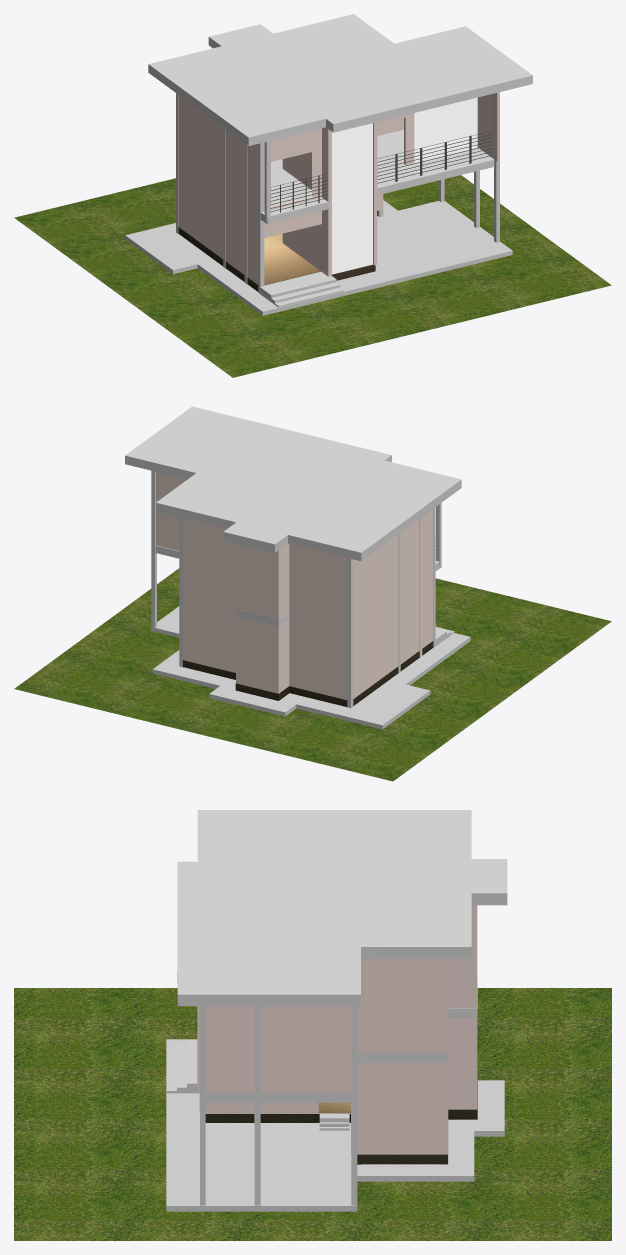
Rendered from mthouse.glb.
3 views of the same model, one above another, from view 1: azimuth 30°, elevation 25°; view 2: azimuth 150°, elevation 25°; view 3: azimuth 270°, elevation 25° (orthographic). The views are drawn at different scales.
Parts seen in each view (by area): view 1: Plane, Roof, Wall.001, Wall, Ground, Floor2, Floor, stair, Cube, column.002, column.012, Cube.001 (+2 smaller); view 2: Plane, Roof, Wall, Wall.001, Ground, Floor, column.003, column.010, Floor2, column.006, column.001; view 3: Plane, Roof, Wall.001, Ground, Wall, Floor2, Floor, stair, column.010, column.011, column.012.
Part boxes in pixels (x1=…): Plane: x1=14, y1=175, x2=611, y2=377; Roof: x1=148, y1=14, x2=532, y2=145; Wall.001: x1=178, y1=92, x2=499, y2=210; Wall: x1=178, y1=133, x2=383, y2=284; Ground: x1=125, y1=200, x2=512, y2=315; Floor2: x1=260, y1=129, x2=494, y2=224; Floor: x1=178, y1=210, x2=377, y2=291; stair: x1=259, y1=271, x2=343, y2=307; Cube: x1=377, y1=130, x2=492, y2=183; column.002: x1=258, y1=142, x2=264, y2=293; column.012: x1=494, y1=92, x2=499, y2=242; Cube.001: x1=270, y1=173, x2=326, y2=212; Plane: x1=14, y1=568, x2=611, y2=781; Roof: x1=125, y1=406, x2=461, y2=561; Wall: x1=183, y1=566, x2=433, y2=699; Wall.001: x1=156, y1=472, x2=433, y2=625; Ground: x1=150, y1=606, x2=470, y2=729; Floor: x1=183, y1=641, x2=433, y2=706; column.003: x1=347, y1=558, x2=353, y2=708; column.010: x1=151, y1=470, x2=156, y2=631; Floor2: x1=155, y1=545, x2=441, y2=626; column.006: x1=179, y1=517, x2=182, y2=667; column.001: x1=419, y1=517, x2=422, y2=657; Plane: x1=14, y1=988, x2=611, y2=1240; Roof: x1=177, y1=810, x2=507, y2=1006; Wall.001: x1=197, y1=905, x2=477, y2=1092; Ground: x1=166, y1=1039, x2=504, y2=1211; Wall: x1=199, y1=1005, x2=477, y2=1154; Floor2: x1=205, y1=979, x2=477, y2=1102; Floor: x1=205, y1=1081, x2=477, y2=1164; stair: x1=166, y1=1040, x2=199, y2=1093; column.010: x1=351, y1=1006, x2=357, y2=1210; column.011: x1=254, y1=1006, x2=260, y2=1205; column.012: x1=200, y1=1006, x2=205, y2=1205.
Size of the model in its own units: 14.91 by 6.42 by 14.91.
Materials: 6 (2 with a texture image).
